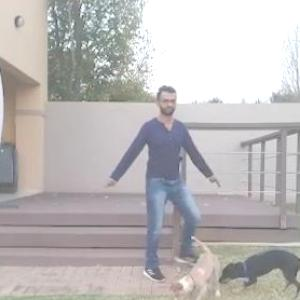land: (100, 99, 212, 282)
